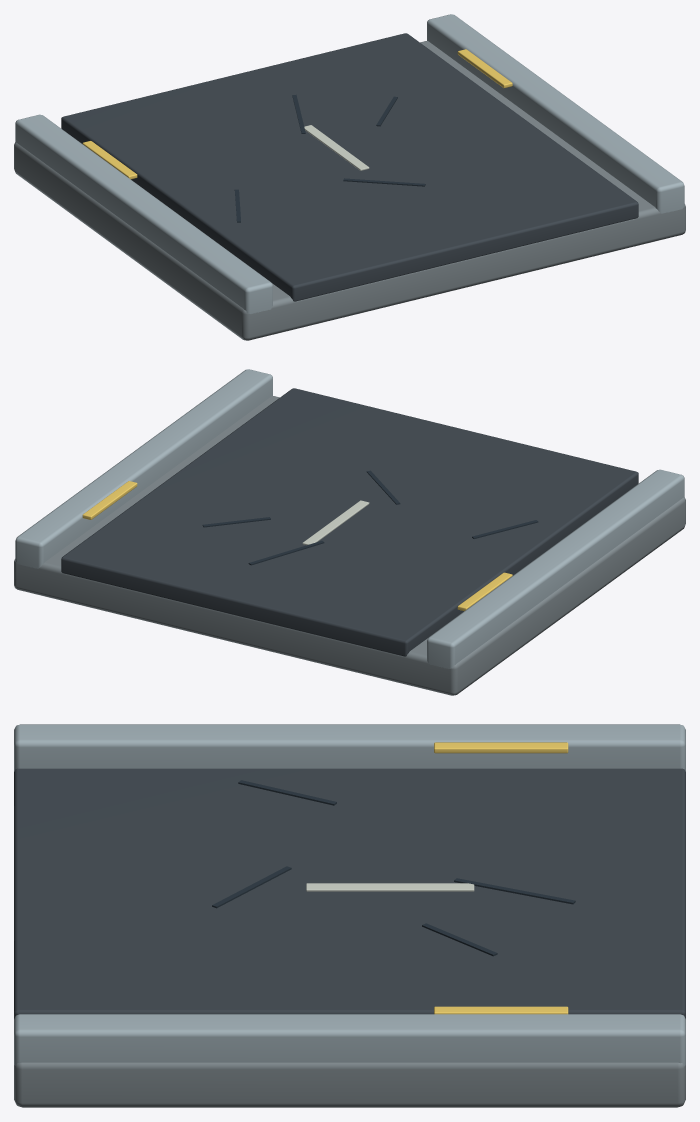
Rendered from 14_road_asphalt.glb.
The picture shows the model from 3 angles, top to bottom: view 1: azimuth 30°, elevation 25°; view 2: azimuth 150°, elevation 25°; view 3: azimuth 270°, elevation 25°; orthographic projection. The views are drawn at different scales.
Visible parts, largest first — view 1: Road surface, Curb, Foundation, Lane light, Asphalt scar, Center dash; view 2: Road surface, Curb, Foundation, Lane light, Asphalt scar, Center dash; view 3: Road surface, Curb, Foundation, Lane light, Asphalt scar, Center dash.
Boxes of the visible parts, box(x1,y1,x2,y2) form: Road surface: box(61, 33, 638, 301); Curb: box(15, 14, 684, 313); Foundation: box(14, 41, 685, 340); Lane light: box(82, 49, 512, 179); Asphalt scar: box(234, 94, 425, 222); Center dash: box(304, 125, 369, 170); Road surface: box(61, 388, 638, 656); Curb: box(15, 369, 684, 668); Foundation: box(14, 396, 685, 695); Lane light: box(82, 481, 512, 611); Asphalt scar: box(202, 470, 538, 565); Center dash: box(302, 500, 369, 545); Road surface: box(14, 768, 685, 1018); Curb: box(14, 724, 685, 1065); Foundation: box(14, 1062, 685, 1107); Lane light: box(434, 742, 568, 1014); Asphalt scar: box(212, 780, 575, 956); Center dash: box(306, 883, 474, 891).
Size of the model in its own units: 2.2 by 0.255 by 2.
